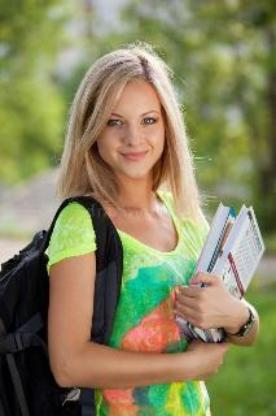bag: (0, 192, 136, 416)
person: (52, 33, 256, 416)
